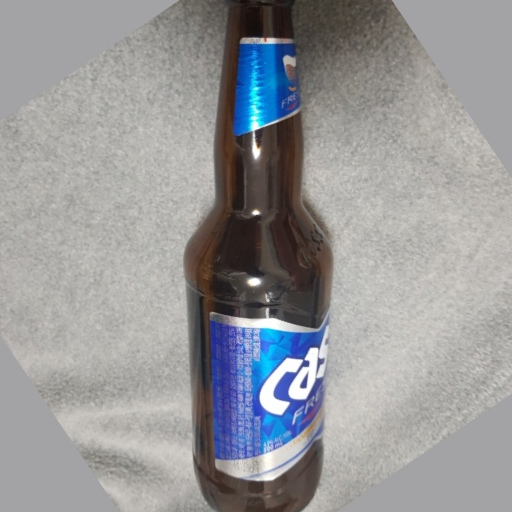Glass_1: (179, 1, 340, 512)
